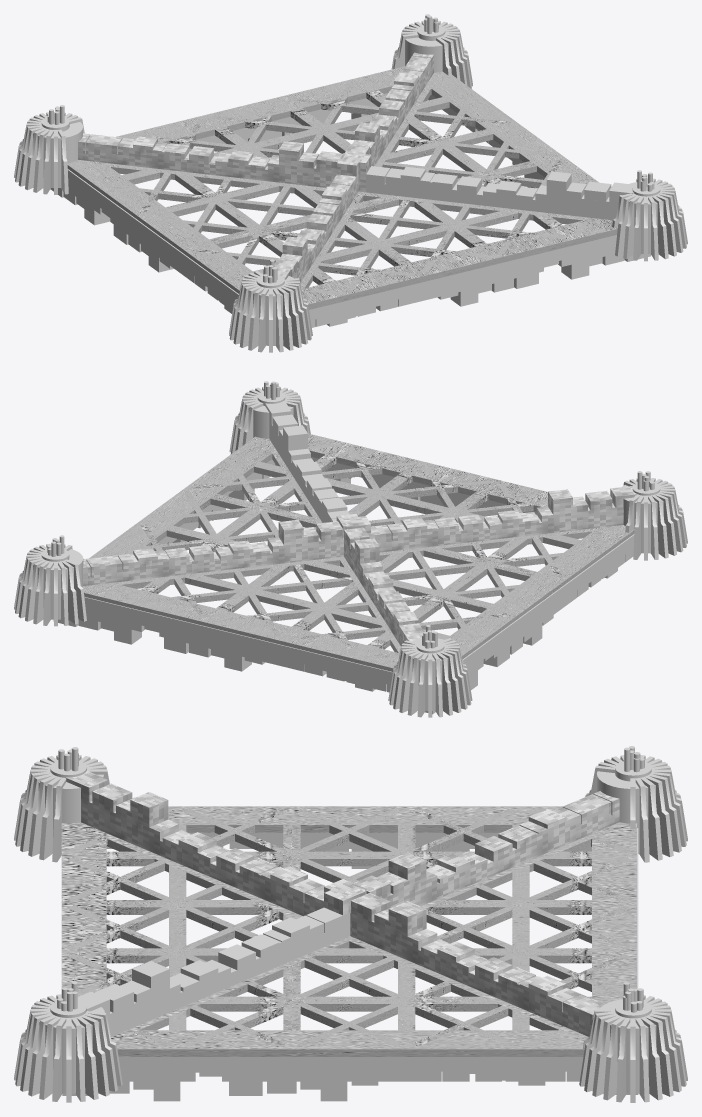
Rendered from orbital shipyard model 2.dae.
3 views of the same model, one above another, from view 1: azimuth 30°, elevation 25°; view 2: azimuth 150°, elevation 25°; view 3: azimuth 270°, elevation 25° (orthographic). The views are drawn at different scales.
Visible parts, largest first — view 1: Polygon_Mesh (×15); view 2: Polygon_Mesh (×16); view 3: Polygon_Mesh (×14).
Part boxes in pixels (left/top/right/bottom): Polygon_Mesh (×15): left=14, top=14, right=687, bottom=352; Polygon_Mesh (×16): left=14, top=381, right=687, bottom=717; Polygon_Mesh (×14): left=14, top=746, right=687, bottom=1102.
Bounding box in the file's own units: 865 × 161 × 860.
